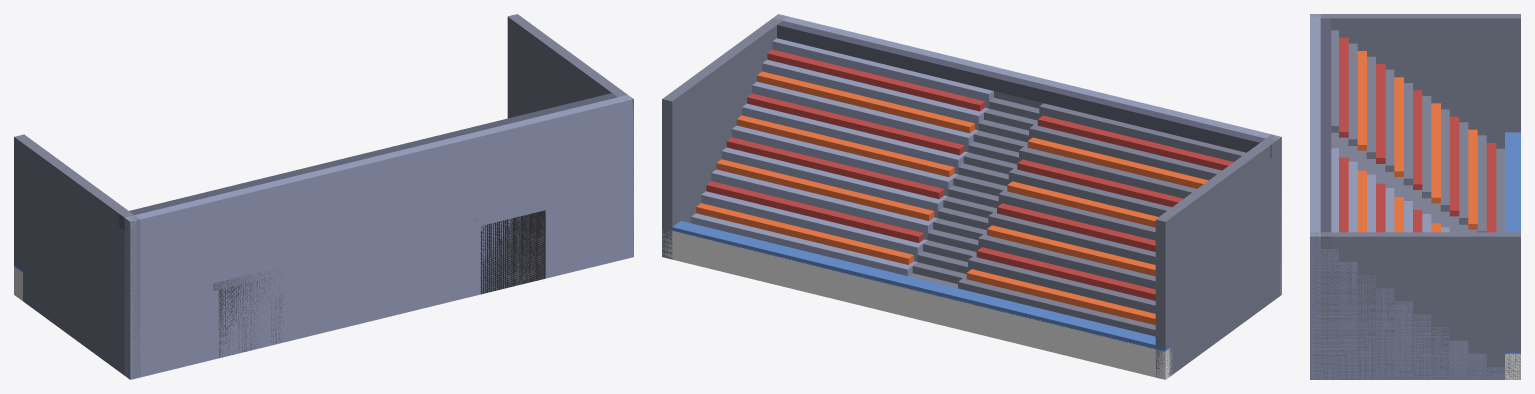
The model's file is tribune-droite.glb.
3 views of the same model, side by side, from view 1: azimuth 30°, elevation 25°; view 2: azimuth 150°, elevation 25°; view 3: azimuth 270°, elevation 25° (orthographic). The views are drawn at different scales.
Parts seen in each view (by area): view 1: mur-arriere, joue-0, joue-1, ouverture-1, garde-corps, rang-9-0, rang-8-0, rang-7-0, ouverture-0, rang-6-0, rang-5-0, rang-4-0 (+1 smaller); view 2: joue-0, muret, joue-1, garde-corps, muret-lisse, rang-8-0, mur-arriere, rang-5-1, rang-6-1, rang-7-1, rang-4-1, rang-2-1 (+44 smaller); view 3: joue-1, joue-0, mur-arriere, rang-9-1, rang-8-1, garde-corps, rang-7-1, rang-6-1, rang-5-1, muret-lisse, rang-4-1, siege-2-0 (+33 smaller).
Boxes of the visible parts, x1,y1,x2,y2 form: mur-arriere: (124, 95, 633, 379); joue-0: (14, 134, 140, 379); joue-1: (507, 14, 633, 256); ouverture-1: (480, 210, 545, 294); garde-corps: (118, 93, 617, 230); rang-9-0: (114, 223, 124, 375); rang-8-0: (104, 231, 114, 367); rang-7-0: (94, 237, 104, 360); ouverture-0: (218, 278, 283, 357); rang-6-0: (84, 245, 93, 352); rang-5-0: (73, 252, 83, 344); rang-4-0: (63, 259, 73, 337); joue-0: (1155, 134, 1281, 378); muret: (662, 230, 1172, 379); joue-1: (662, 14, 787, 259); garde-corps: (777, 21, 1271, 157); muret-lisse: (672, 221, 1171, 351); rang-8-0: (1029, 122, 1265, 313); mur-arriere: (773, 14, 1281, 295); rang-5-1: (731, 125, 957, 196); rang-6-1: (742, 103, 968, 174); rang-7-1: (752, 81, 978, 152); rang-4-1: (721, 147, 947, 218); rang-2-1: (701, 191, 927, 261); joue-1: (1310, 232, 1520, 379); joue-0: (1310, 14, 1520, 148); mur-arriere: (1310, 14, 1320, 379); rang-9-1: (1320, 148, 1338, 379); rang-8-1: (1339, 161, 1357, 379); garde-corps: (1320, 18, 1331, 248); rang-7-1: (1357, 174, 1375, 379); rang-6-1: (1376, 188, 1394, 379); rang-5-1: (1394, 201, 1412, 379); muret-lisse: (1505, 132, 1520, 354); rang-4-1: (1413, 214, 1431, 379); siege-2-0: (1449, 116, 1459, 216).
Size of the model in its own units: 1 by 0.3 by 0.4.
